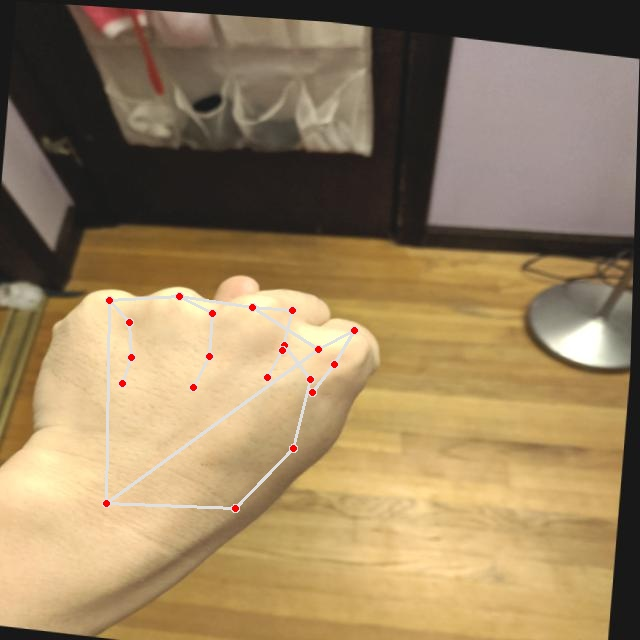N: (12, 242, 397, 531)
